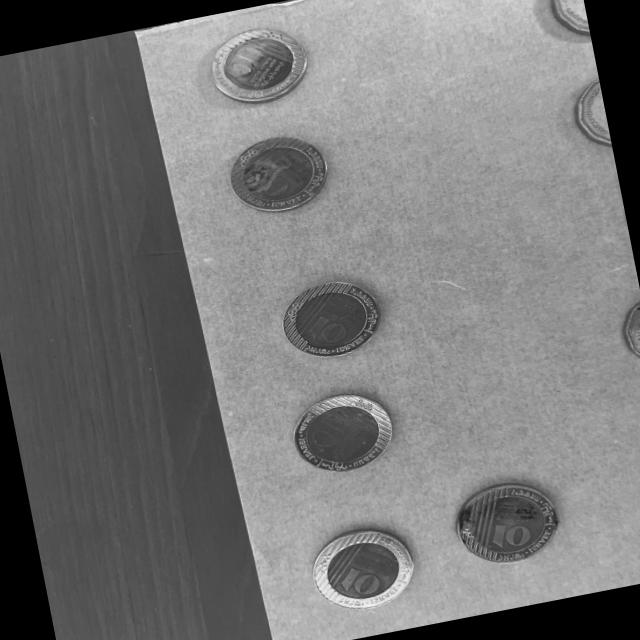10-shekel: (286, 374, 404, 490), (449, 466, 571, 570), (278, 268, 396, 372), (198, 18, 322, 114), (308, 519, 418, 616), (225, 124, 331, 222)
